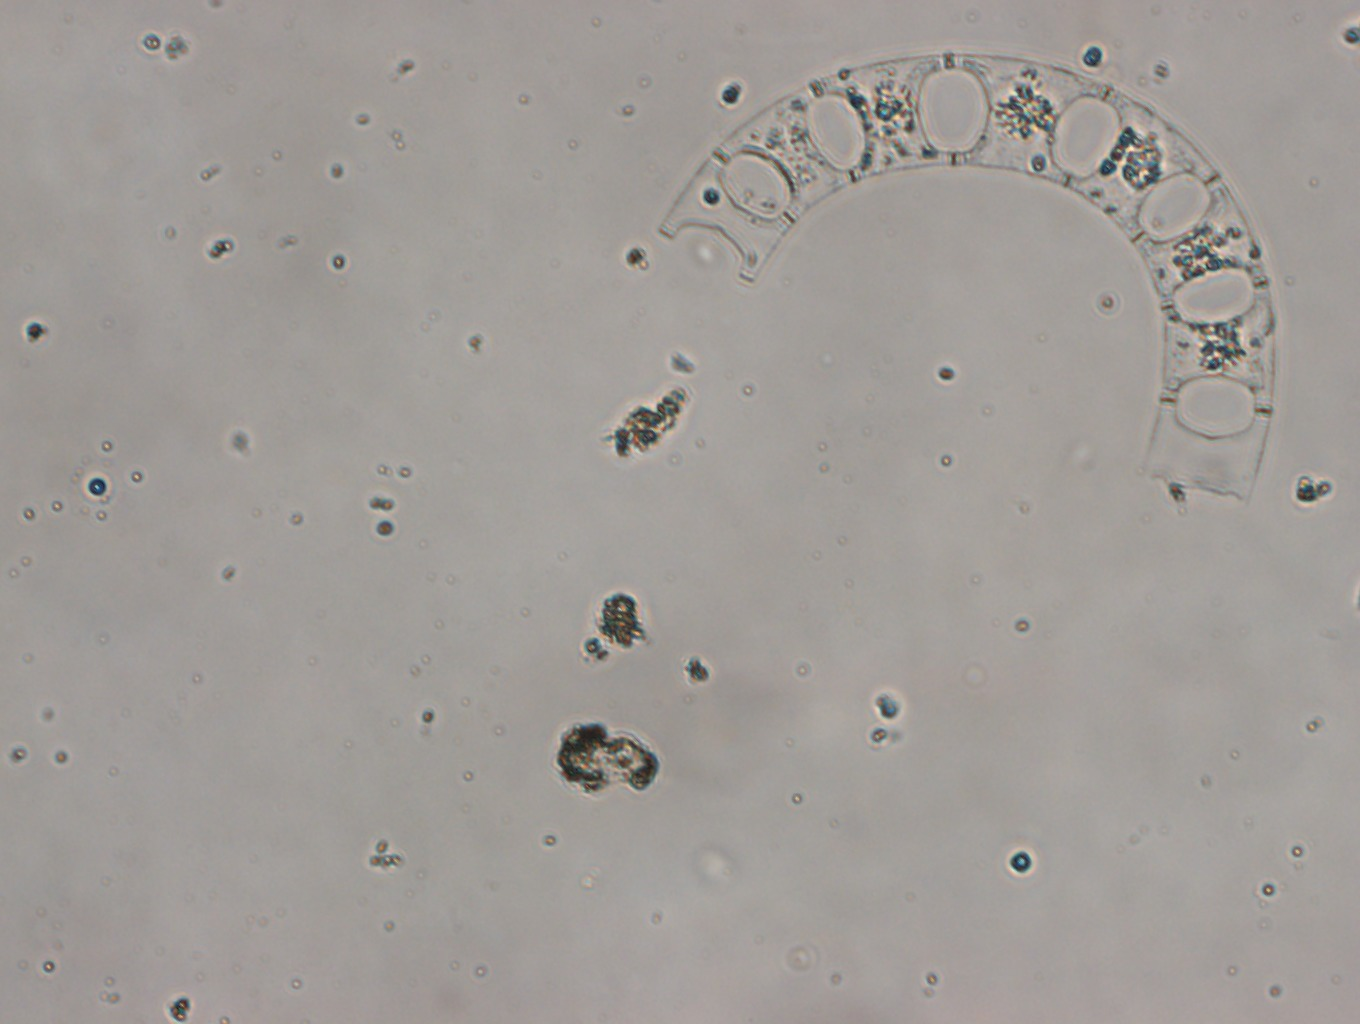eucampia: (649, 53, 1282, 508)
